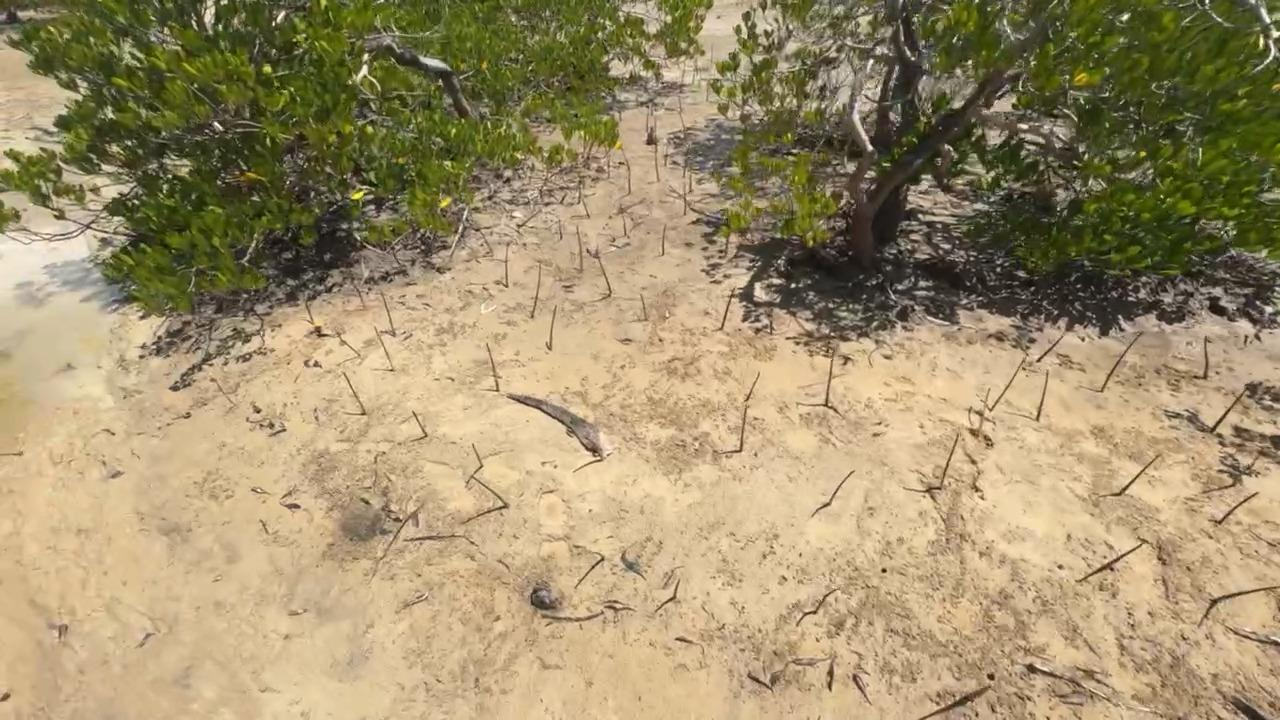Tree: (1100, 329, 1143, 392), (990, 353, 1031, 413), (1208, 380, 1253, 434), (1120, 453, 1160, 497), (1217, 490, 1260, 526), (471, 474, 511, 508), (587, 243, 612, 296), (1210, 586, 1280, 604), (940, 432, 959, 490), (1104, 541, 1143, 569), (373, 325, 396, 372), (342, 372, 367, 415), (830, 469, 855, 506), (614, 142, 631, 194), (1036, 332, 1064, 362), (209, 378, 236, 406), (380, 292, 396, 337), (486, 342, 500, 392), (977, 387, 991, 437), (1037, 369, 1050, 422), (335, 331, 361, 357), (530, 262, 541, 319), (720, 288, 735, 329), (545, 304, 558, 351), (816, 588, 839, 612), (825, 351, 834, 405), (745, 371, 761, 401), (968, 683, 994, 701), (412, 410, 428, 437), (740, 404, 747, 452), (576, 225, 583, 273), (471, 442, 484, 467), (354, 283, 366, 310), (1203, 334, 1209, 380), (654, 135, 660, 181), (682, 145, 690, 177), (305, 300, 314, 325), (640, 293, 648, 321), (672, 577, 681, 599), (661, 223, 667, 255), (620, 204, 626, 236), (505, 241, 509, 288), (582, 199, 591, 218), (688, 162, 693, 193), (682, 182, 686, 217), (593, 551, 605, 559), (559, 220, 563, 240)
